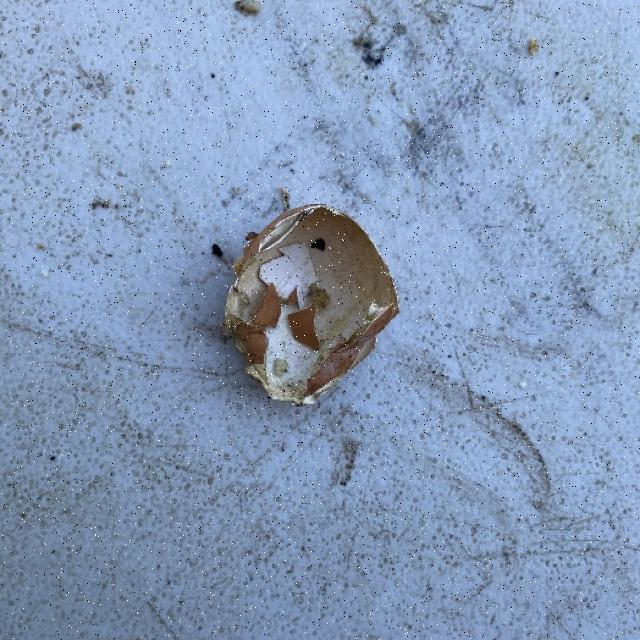organik: (216, 209, 404, 407)
